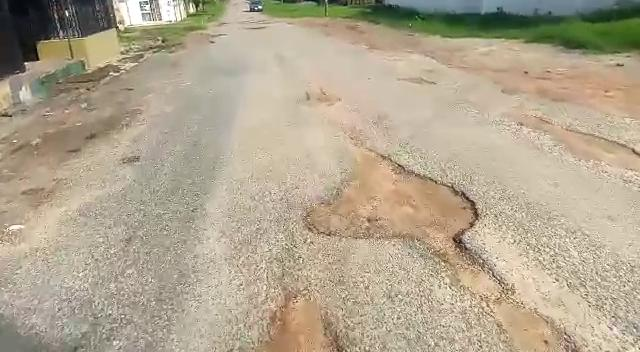pothole: (300, 151, 487, 247), (491, 111, 640, 191), (252, 290, 345, 352)
